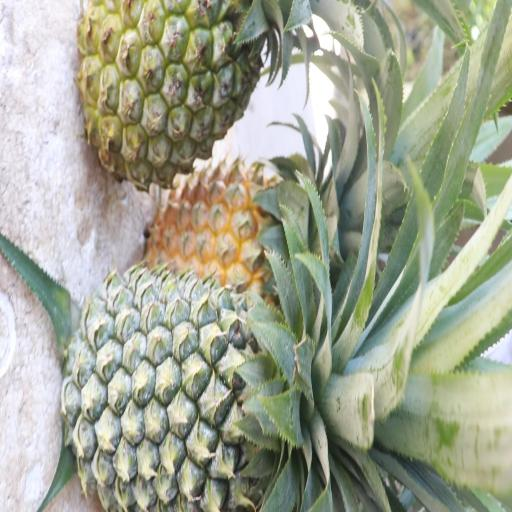------------------------------: (80, 0, 265, 176)
Pineapple - v8 v1: (148, 145, 309, 282)
